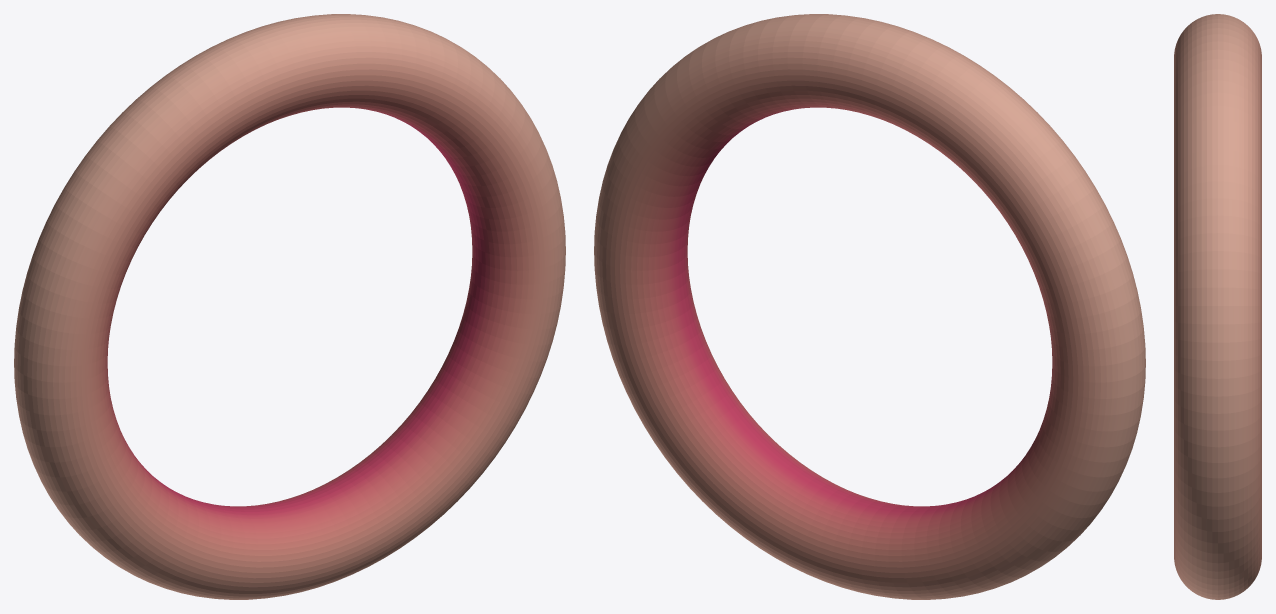
3 renders of one model, left to right at view 1: azimuth 30°, elevation 25°; view 2: azimuth 150°, elevation 25°; view 3: azimuth 270°, elevation 25°, orthographic. The views are drawn at different scales.
Visible parts, largest first — view 1: world; view 2: world; view 3: world.
Boxes of the visible parts, <box> form: world: <box>14,14,565,599</box>; world: <box>594,14,1145,599</box>; world: <box>1174,14,1261,599</box>.
Bounding box in the file's own units: 20.4 × 20.4 × 3.06.
